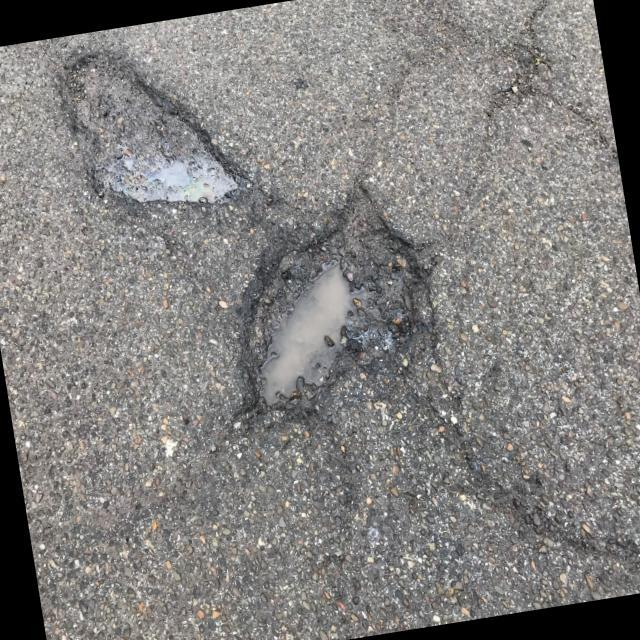Pothole: (214, 202, 426, 424), (53, 29, 259, 224)
